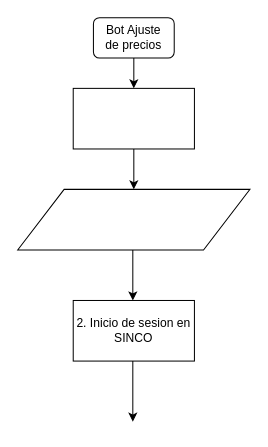
This 268x447 diagram has some shape labels left out. The centre of each missing label's shape, as x and y in pixels:
1. Abrir Ventana nueva de SINCO EN Navegador: the point at 133,118
https://www4.sincoerp.com/ SincoConsGalias_Nueva/V3/Marco/Login.aspx: the point at 133,219
